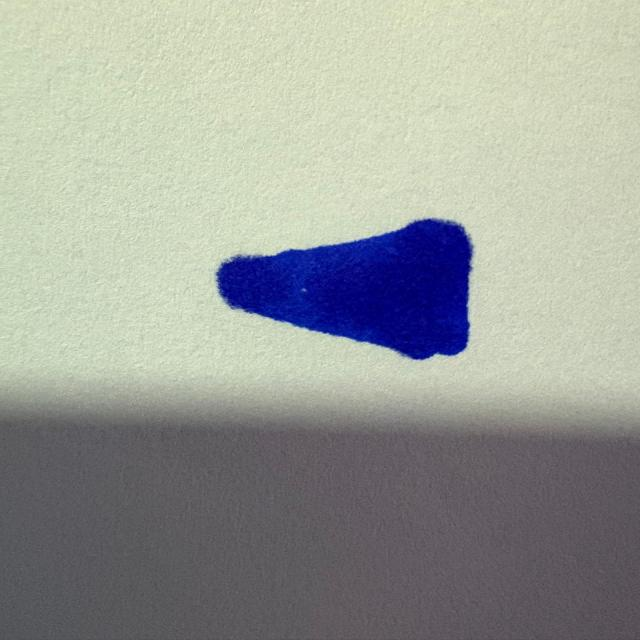Triangle: (208, 213, 483, 365)
